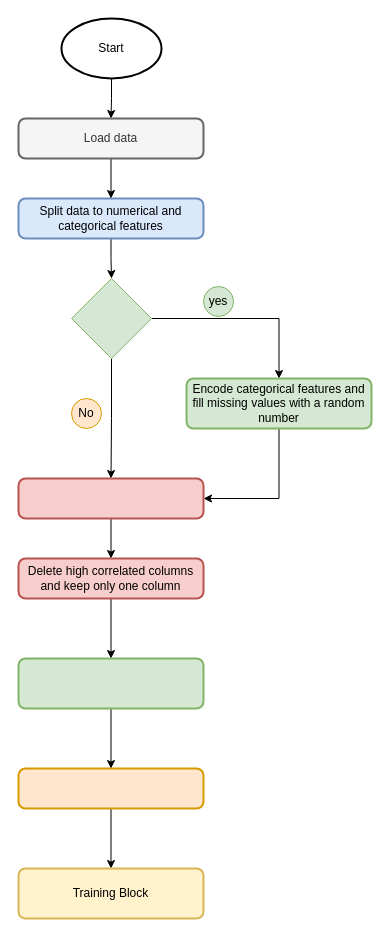
The diagram is 389 pixels wide and 936 high, and some of its shapes have lost their labels. The shapes that lost their labels are listed below. From the top down, each one's centre as x and y in pixels, then its label:
At pixel 111 318: "is there categorical features".
At pixel 110 498: "Delete columns that have constant values in all rows".
At pixel 110 683: "Apply target-based encoding method to the categorical features".
At pixel 110 788: "Normalize numerical features and fill missing values with x".
